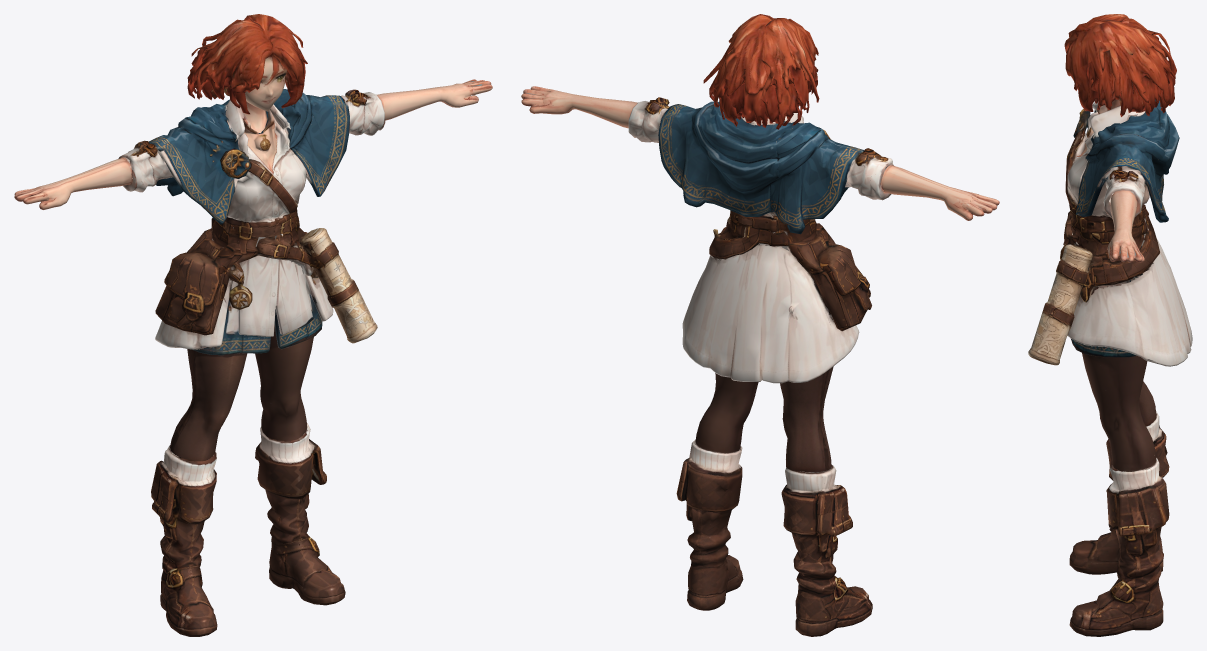
File: mina_original.glb
3 renders of one model, left to right at view 1: azimuth 30°, elevation 25°; view 2: azimuth 150°, elevation 25°; view 3: azimuth 270°, elevation 25°, orthographic.
Parts seen in each view (by area): view 1: tripo_part_1_Clone, tripo_part_14_Clone, tripo_part_0_Clone, tripo_part_26_Clone, tripo_part_22_Clone, tripo_part_6_Clone, tripo_part_5_Clone, tripo_part_3_Clone, tripo_part_4_Clone, tripo_part_9_Clone, tripo_part_8_Clone, tripo_part_11_Clone (+3 smaller); view 2: tripo_part_1_Clone, tripo_part_3_Clone, tripo_part_0_Clone, tripo_part_26_Clone, tripo_part_22_Clone, tripo_part_5_Clone, tripo_part_6_Clone, tripo_part_4_Clone, tripo_part_9_Clone, tripo_part_11_Clone, tripo_part_13_Clone, tripo_part_14_Clone (+2 smaller); view 3: tripo_part_22_Clone, tripo_part_1_Clone, tripo_part_0_Clone, tripo_part_3_Clone, tripo_part_9_Clone, tripo_part_14_Clone, tripo_part_8_Clone, tripo_part_26_Clone, tripo_part_6_Clone, tripo_part_13_Clone, tripo_part_12_Clone, tripo_part_4_Clone (+1 smaller).
Boxes of the visible parts, bbox=[...] form: tripo_part_1_Clone: bbox=[155, 234, 333, 355]; tripo_part_14_Clone: bbox=[212, 100, 307, 248]; tripo_part_0_Clone: bbox=[187, 14, 307, 133]; tripo_part_26_Clone: bbox=[151, 445, 217, 636]; tripo_part_22_Clone: bbox=[255, 423, 345, 605]; tripo_part_6_Clone: bbox=[155, 218, 318, 335]; tripo_part_5_Clone: bbox=[149, 107, 240, 224]; tripo_part_3_Clone: bbox=[202, 89, 349, 196]; tripo_part_4_Clone: bbox=[170, 270, 247, 461]; tripo_part_9_Clone: bbox=[255, 325, 313, 441]; tripo_part_8_Clone: bbox=[299, 228, 377, 343]; tripo_part_11_Clone: bbox=[35, 157, 132, 209]; tripo_part_1_Clone: bbox=[682, 231, 859, 383]; tripo_part_3_Clone: bbox=[658, 101, 793, 216]; tripo_part_0_Clone: bbox=[703, 14, 819, 129]; tripo_part_26_Clone: bbox=[781, 465, 872, 636]; tripo_part_22_Clone: bbox=[676, 440, 743, 610]; tripo_part_5_Clone: bbox=[770, 122, 863, 234]; tripo_part_6_Clone: bbox=[709, 223, 871, 331]; tripo_part_4_Clone: bbox=[780, 276, 833, 472]; tripo_part_9_Clone: bbox=[695, 373, 758, 453]; tripo_part_11_Clone: bbox=[881, 164, 978, 220]; tripo_part_13_Clone: bbox=[529, 89, 637, 128]; tripo_part_14_Clone: bbox=[713, 113, 831, 242]; tripo_part_22_Clone: bbox=[1069, 458, 1169, 636]; tripo_part_1_Clone: bbox=[1067, 219, 1192, 366]; tripo_part_0_Clone: bbox=[1064, 14, 1176, 116]; tripo_part_3_Clone: bbox=[1076, 100, 1179, 222]; tripo_part_9_Clone: bbox=[1082, 291, 1156, 471]; tripo_part_14_Clone: bbox=[1065, 101, 1149, 262]; tripo_part_8_Clone: bbox=[1028, 244, 1092, 365]; tripo_part_26_Clone: bbox=[1069, 411, 1169, 574]; tripo_part_6_Clone: bbox=[1060, 209, 1159, 302]; tripo_part_13_Clone: bbox=[1107, 190, 1144, 262]; tripo_part_12_Clone: bbox=[1103, 169, 1145, 218]; tripo_part_4_Clone: bbox=[1097, 276, 1156, 426].
Size of the model in its own units: 0.8452 by 0.9996 by 0.2546.
Materials: 18 (18 with a texture image).
